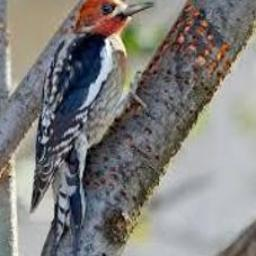Woodpecker: (30, 0, 156, 256)
